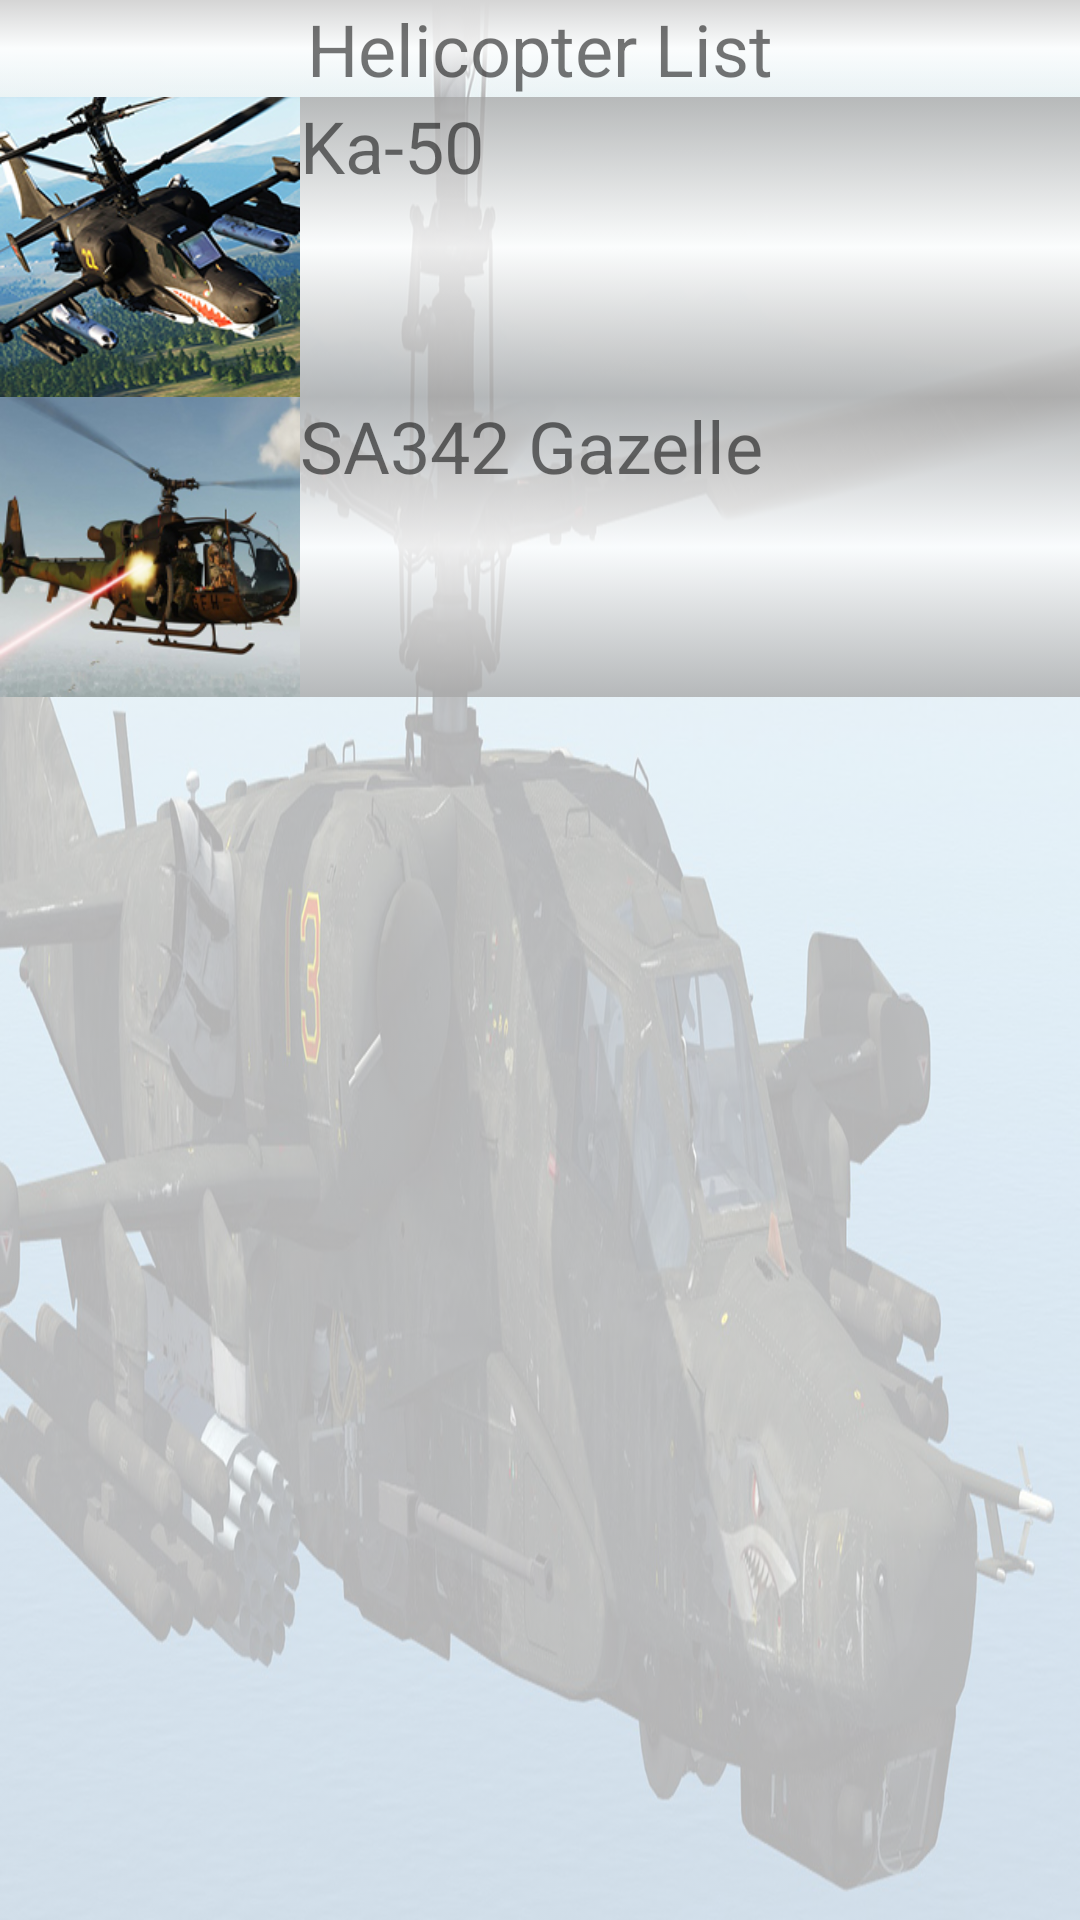

Screen size 1080 x 1920. Icon name, then its center in pixels as (x=x, y=y):
dcs helicopter gazelle: (x=150, y=547)
